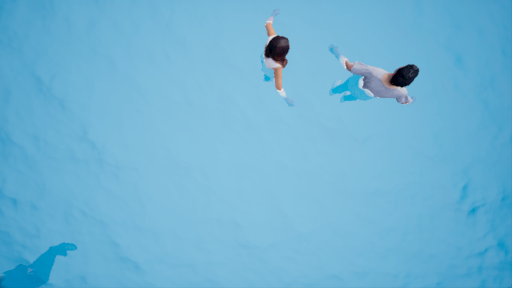person: (320, 39, 418, 111), (260, 15, 298, 105)
